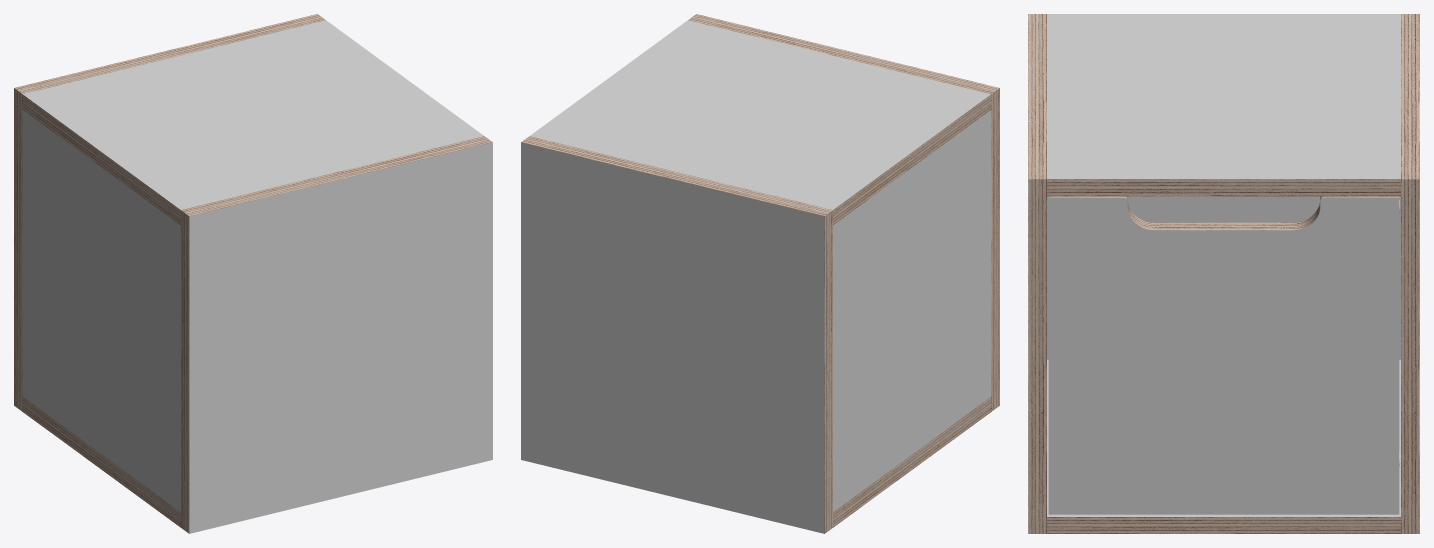
Rendered from Drawer Shelf Closed.fbx.
3 renders of one model, left to right at view 1: azimuth 30°, elevation 25°; view 2: azimuth 150°, elevation 25°; view 3: azimuth 270°, elevation 25°, orthographic. The views are drawn at different scales.
Visible parts, largest first — view 1: Drawer Closed Shelf TL, Drawer Closed Shelf BL, Drawer Closed Shelf L, Drawer Closed Shelf T, Drawer Closed Shelf TR, Drawer Closed Shelf B, Drawer Closed Shelf BR, Drawer Closed Shelf C, Drawer Closed Shelf R; view 2: Drawer Closed Shelf TR, Drawer Closed Shelf BR, Drawer Closed Shelf R, Drawer Closed Shelf T, Drawer Closed Shelf TL, Drawer Closed Shelf B, Drawer Closed Shelf BL, Drawer Closed Shelf C, Drawer Closed Shelf L; view 3: Drawer Closed Shelf TL, Drawer Closed Shelf TR, Drawer Closed Shelf T, Drawer Closed Shelf C, Drawer Closed Shelf L, Drawer Closed Shelf R, Drawer Closed Shelf BL, Drawer Closed Shelf BR, Drawer Closed Shelf B.
Part boxes in pixels (left/top/right/bottom): Drawer Closed Shelf TL: left=131, top=99, right=492, bottom=321; Drawer Closed Shelf BL: left=131, top=354, right=492, bottom=533; Drawer Closed Shelf L: left=131, top=248, right=492, bottom=427; Drawer Closed Shelf T: left=72, top=57, right=433, bottom=278; Drawer Closed Shelf TR: left=14, top=14, right=375, bottom=236; Drawer Closed Shelf B: left=72, top=343, right=130, bottom=490; Drawer Closed Shelf BR: left=14, top=300, right=72, bottom=448; Drawer Closed Shelf C: left=72, top=237, right=130, bottom=384; Drawer Closed Shelf R: left=14, top=194, right=72, bottom=342; Drawer Closed Shelf TR: left=521, top=99, right=882, bottom=321; Drawer Closed Shelf BR: left=521, top=354, right=882, bottom=533; Drawer Closed Shelf R: left=521, top=248, right=882, bottom=427; Drawer Closed Shelf T: left=580, top=57, right=941, bottom=278; Drawer Closed Shelf TL: left=638, top=14, right=999, bottom=236; Drawer Closed Shelf B: left=883, top=343, right=941, bottom=490; Drawer Closed Shelf BL: left=941, top=300, right=999, bottom=448; Drawer Closed Shelf C: left=883, top=237, right=941, bottom=384; Drawer Closed Shelf L: left=941, top=194, right=999, bottom=342; Drawer Closed Shelf TL: left=1028, top=14, right=1158, bottom=297; Drawer Closed Shelf TR: left=1289, top=14, right=1419, bottom=297; Drawer Closed Shelf T: left=1158, top=14, right=1289, bottom=296; Drawer Closed Shelf C: left=1158, top=196, right=1289, bottom=414; Drawer Closed Shelf L: left=1028, top=196, right=1158, bottom=415; Drawer Closed Shelf R: left=1289, top=196, right=1419, bottom=415; Drawer Closed Shelf BL: left=1028, top=258, right=1158, bottom=533; Drawer Closed Shelf BR: left=1289, top=258, right=1419, bottom=533; Drawer Closed Shelf B: left=1158, top=415, right=1289, bottom=533.
Size of the model in its own units: 40 by 40.01 by 40.
